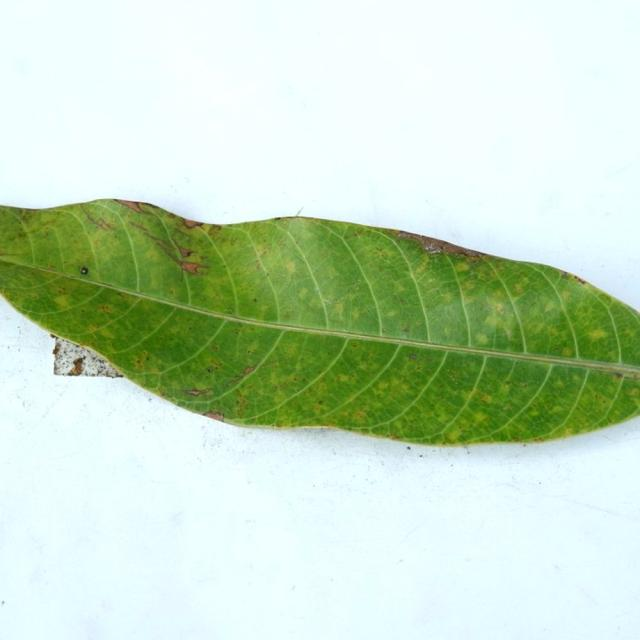Mango: (0, 199, 639, 444)
Powdery_Mildew: (469, 407, 493, 428), (484, 314, 511, 332), (179, 260, 210, 275), (239, 339, 263, 358), (319, 263, 340, 281), (234, 393, 248, 416), (52, 293, 73, 308), (18, 208, 39, 222), (586, 328, 609, 340), (445, 426, 463, 441), (177, 245, 196, 259), (273, 380, 295, 391), (203, 360, 223, 372), (371, 247, 389, 259), (414, 261, 430, 274), (392, 294, 408, 307), (375, 381, 391, 393), (207, 226, 223, 238), (333, 301, 345, 315), (255, 247, 270, 258), (284, 261, 297, 273), (392, 282, 406, 293), (241, 365, 255, 376), (455, 262, 470, 272), (622, 327, 637, 337), (336, 374, 352, 383), (476, 334, 489, 345), (298, 287, 309, 298), (560, 290, 571, 301), (514, 283, 524, 294), (561, 347, 573, 356), (480, 393, 492, 402), (386, 309, 399, 317), (87, 325, 100, 333), (139, 350, 150, 359), (443, 327, 453, 336), (553, 380, 564, 388), (627, 388, 638, 396), (98, 304, 110, 311), (317, 382, 326, 391), (283, 310, 292, 319), (313, 405, 322, 413), (355, 411, 364, 419), (532, 436, 544, 442), (550, 328, 560, 335), (234, 321, 244, 328), (408, 353, 418, 360), (402, 325, 411, 332), (614, 372, 623, 379), (226, 307, 235, 314), (17, 232, 27, 238), (212, 343, 219, 351), (518, 382, 529, 387), (353, 231, 362, 237), (389, 434, 398, 440), (168, 288, 175, 295), (42, 231, 49, 238), (56, 288, 64, 294), (254, 262, 260, 270), (634, 372, 640, 380), (595, 394, 602, 400), (352, 342, 358, 347), (293, 377, 298, 382), (136, 359, 141, 364), (554, 347, 559, 352), (187, 326, 192, 330), (318, 400, 323, 404), (253, 298, 257, 302), (382, 328, 386, 332)
